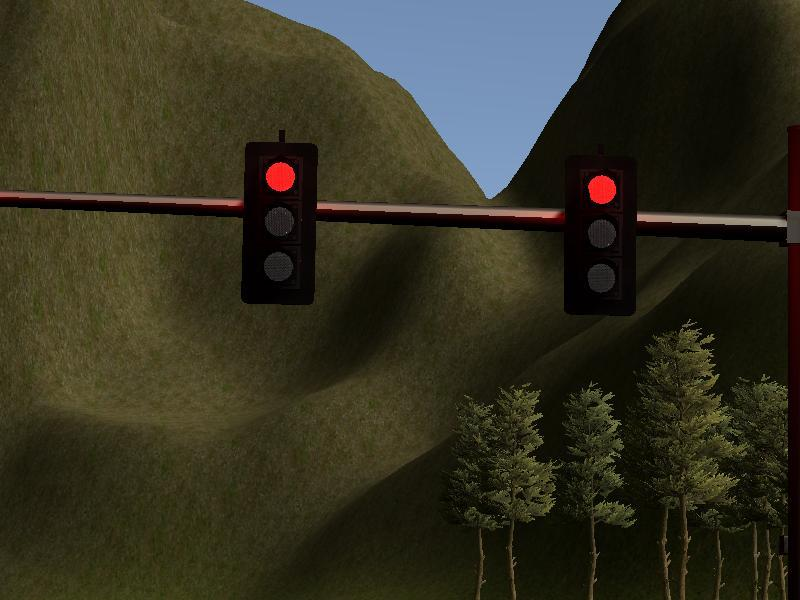Red: (565, 157, 637, 315), (244, 142, 312, 305)
